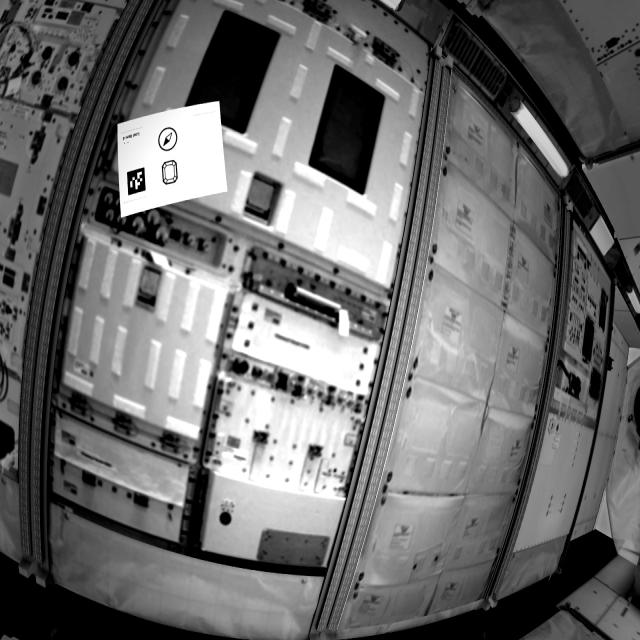compass: (157, 125, 180, 157)
emerald: (160, 156, 183, 193)
